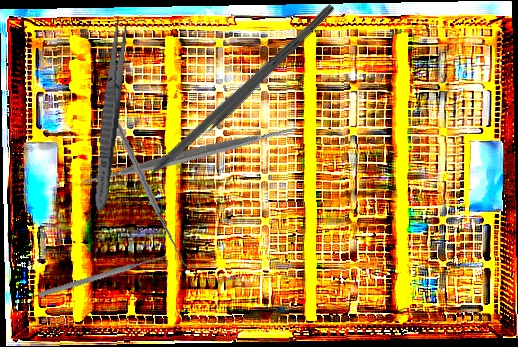Dressing Forceps: (90, 15, 131, 212)
Hook Surgical: (90, 100, 210, 268)
Pusher: (119, 34, 303, 201), (183, 1, 337, 154), (37, 252, 167, 300)
Spatula Surgical: (73, 38, 308, 273)
